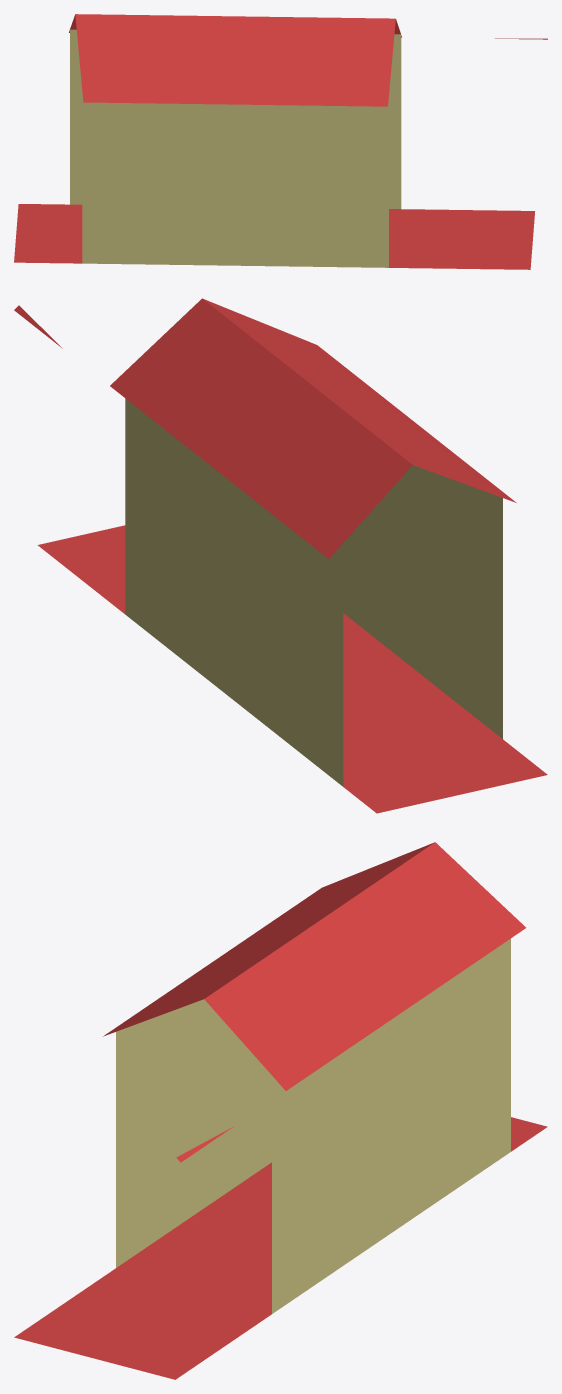
The picture shows the model from 3 angles, top to bottom: view 1: azimuth 30°, elevation 25°; view 2: azimuth 150°, elevation 25°; view 3: azimuth 270°, elevation 25°; orthographic projection. The views are drawn at different scales.
Bounding box in the file's own units: 21.32 × 15.75 × 9.6.
